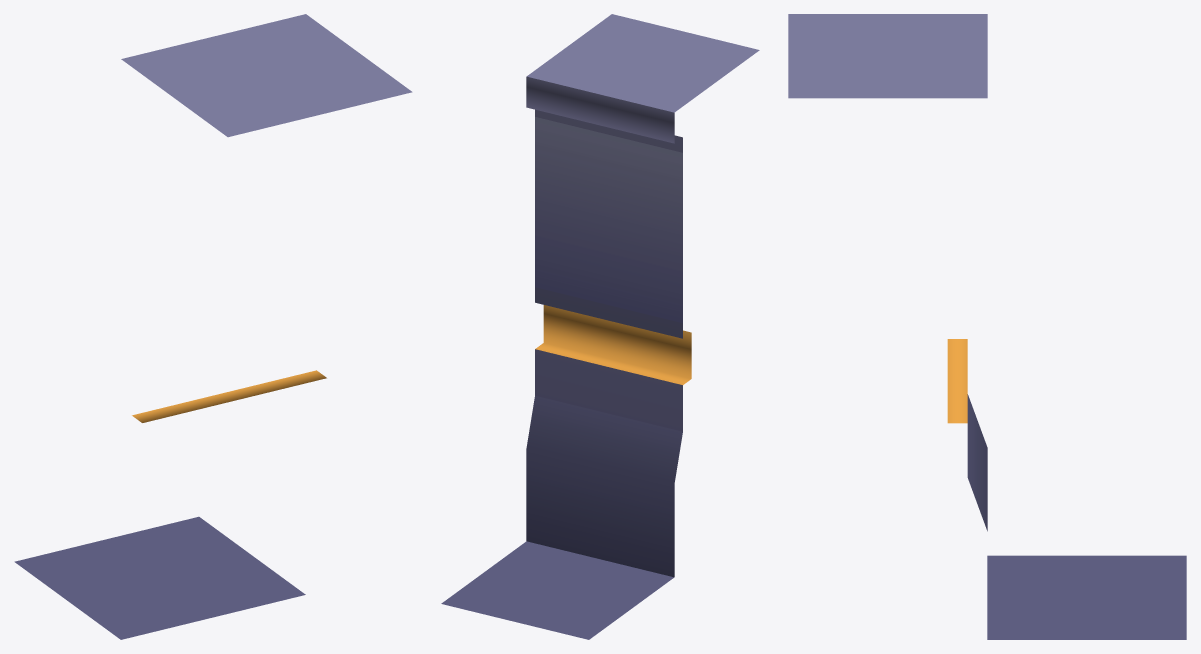
The model's file is kenney-conveyor-structure-wall.glb.
3 renders of one model, left to right at view 1: azimuth 30°, elevation 25°; view 2: azimuth 150°, elevation 25°; view 3: azimuth 270°, elevation 25°, orthographic. The views are drawn at different scales.
Parts seen in each view (by area): view 1: structure-wall; view 2: structure-wall; view 3: structure-wall.
Boxes of the visible parts, box(x1,y1,x2,y2) form: structure-wall: box(14, 14, 412, 639); structure-wall: box(441, 14, 759, 639); structure-wall: box(788, 14, 1186, 639).
Size of the model in its own units: 0.9999 by 3 by 2.
Materials: 1 (1 with a texture image).
